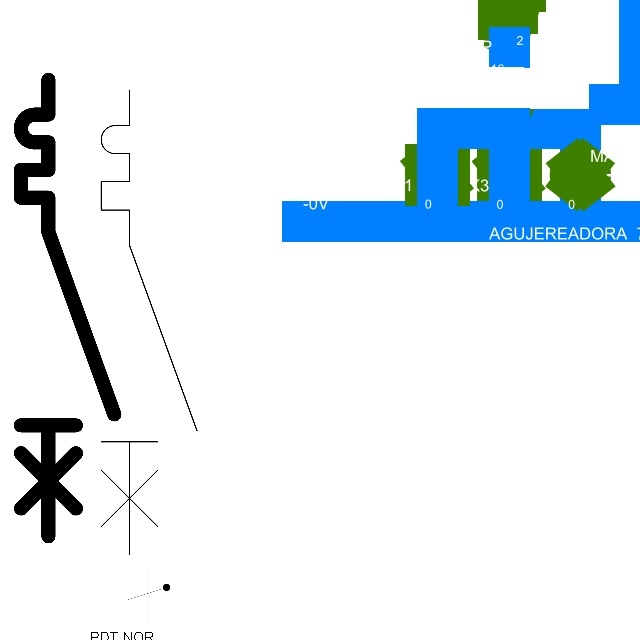interruptor_termomagnetico: (89, 78, 208, 567), (9, 68, 126, 548)
